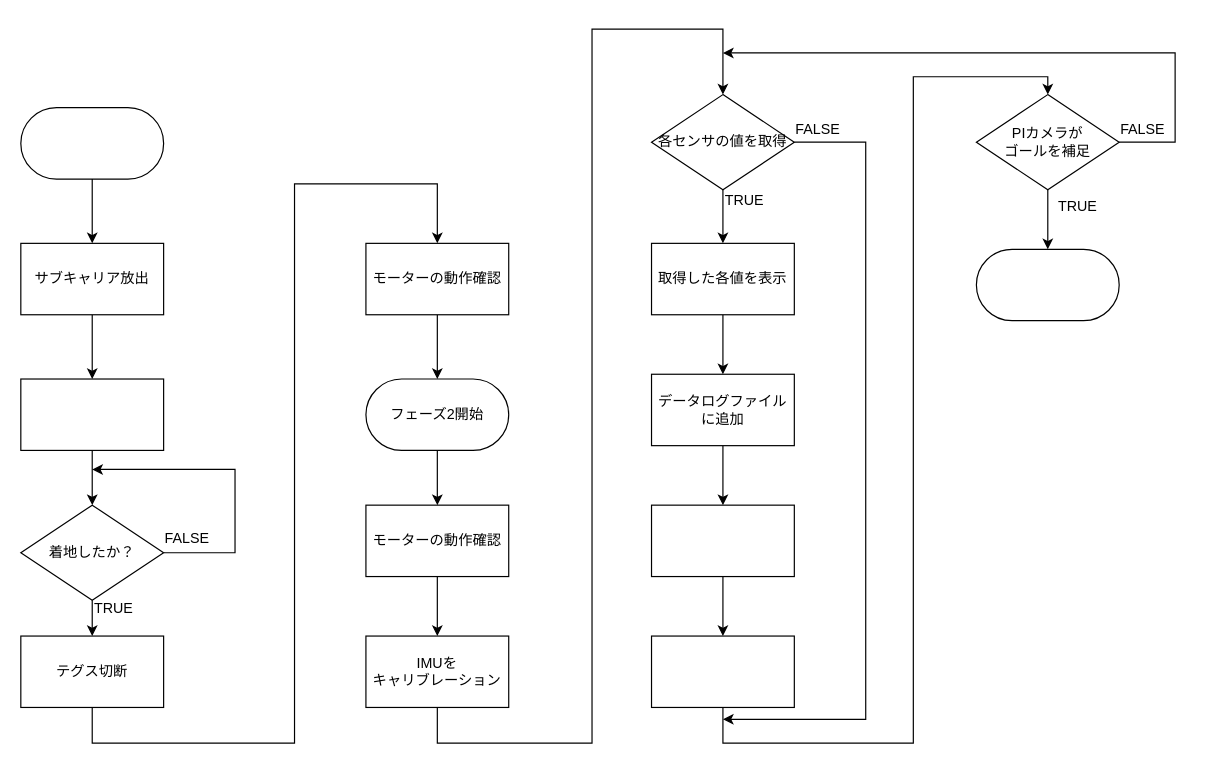
This 1205x774 diagram has some shape labels left out. The shapes that lost their labels are listed below. From the top down, each one's centre as x and y in pixels, then its label:
the point at 92,143: フェーズ1開始
the point at 1047,284: フェーズ3開始
the point at 92,414: パラシュート展開
the point at 722,540: GPS・IMUデータ処理
the point at 722,671: 舵決定
